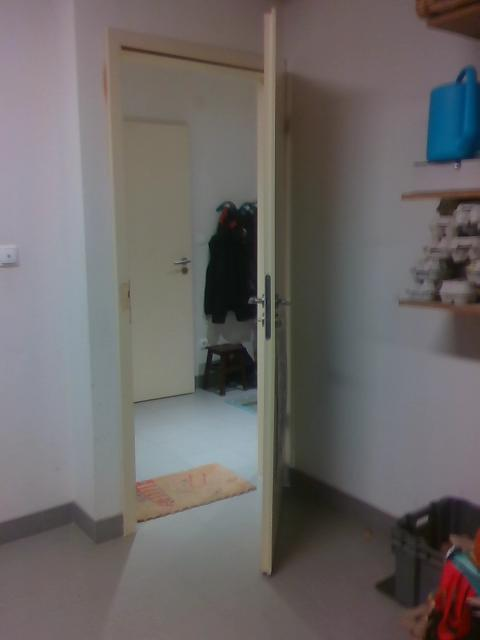semi_door: (101, 3, 292, 577)
